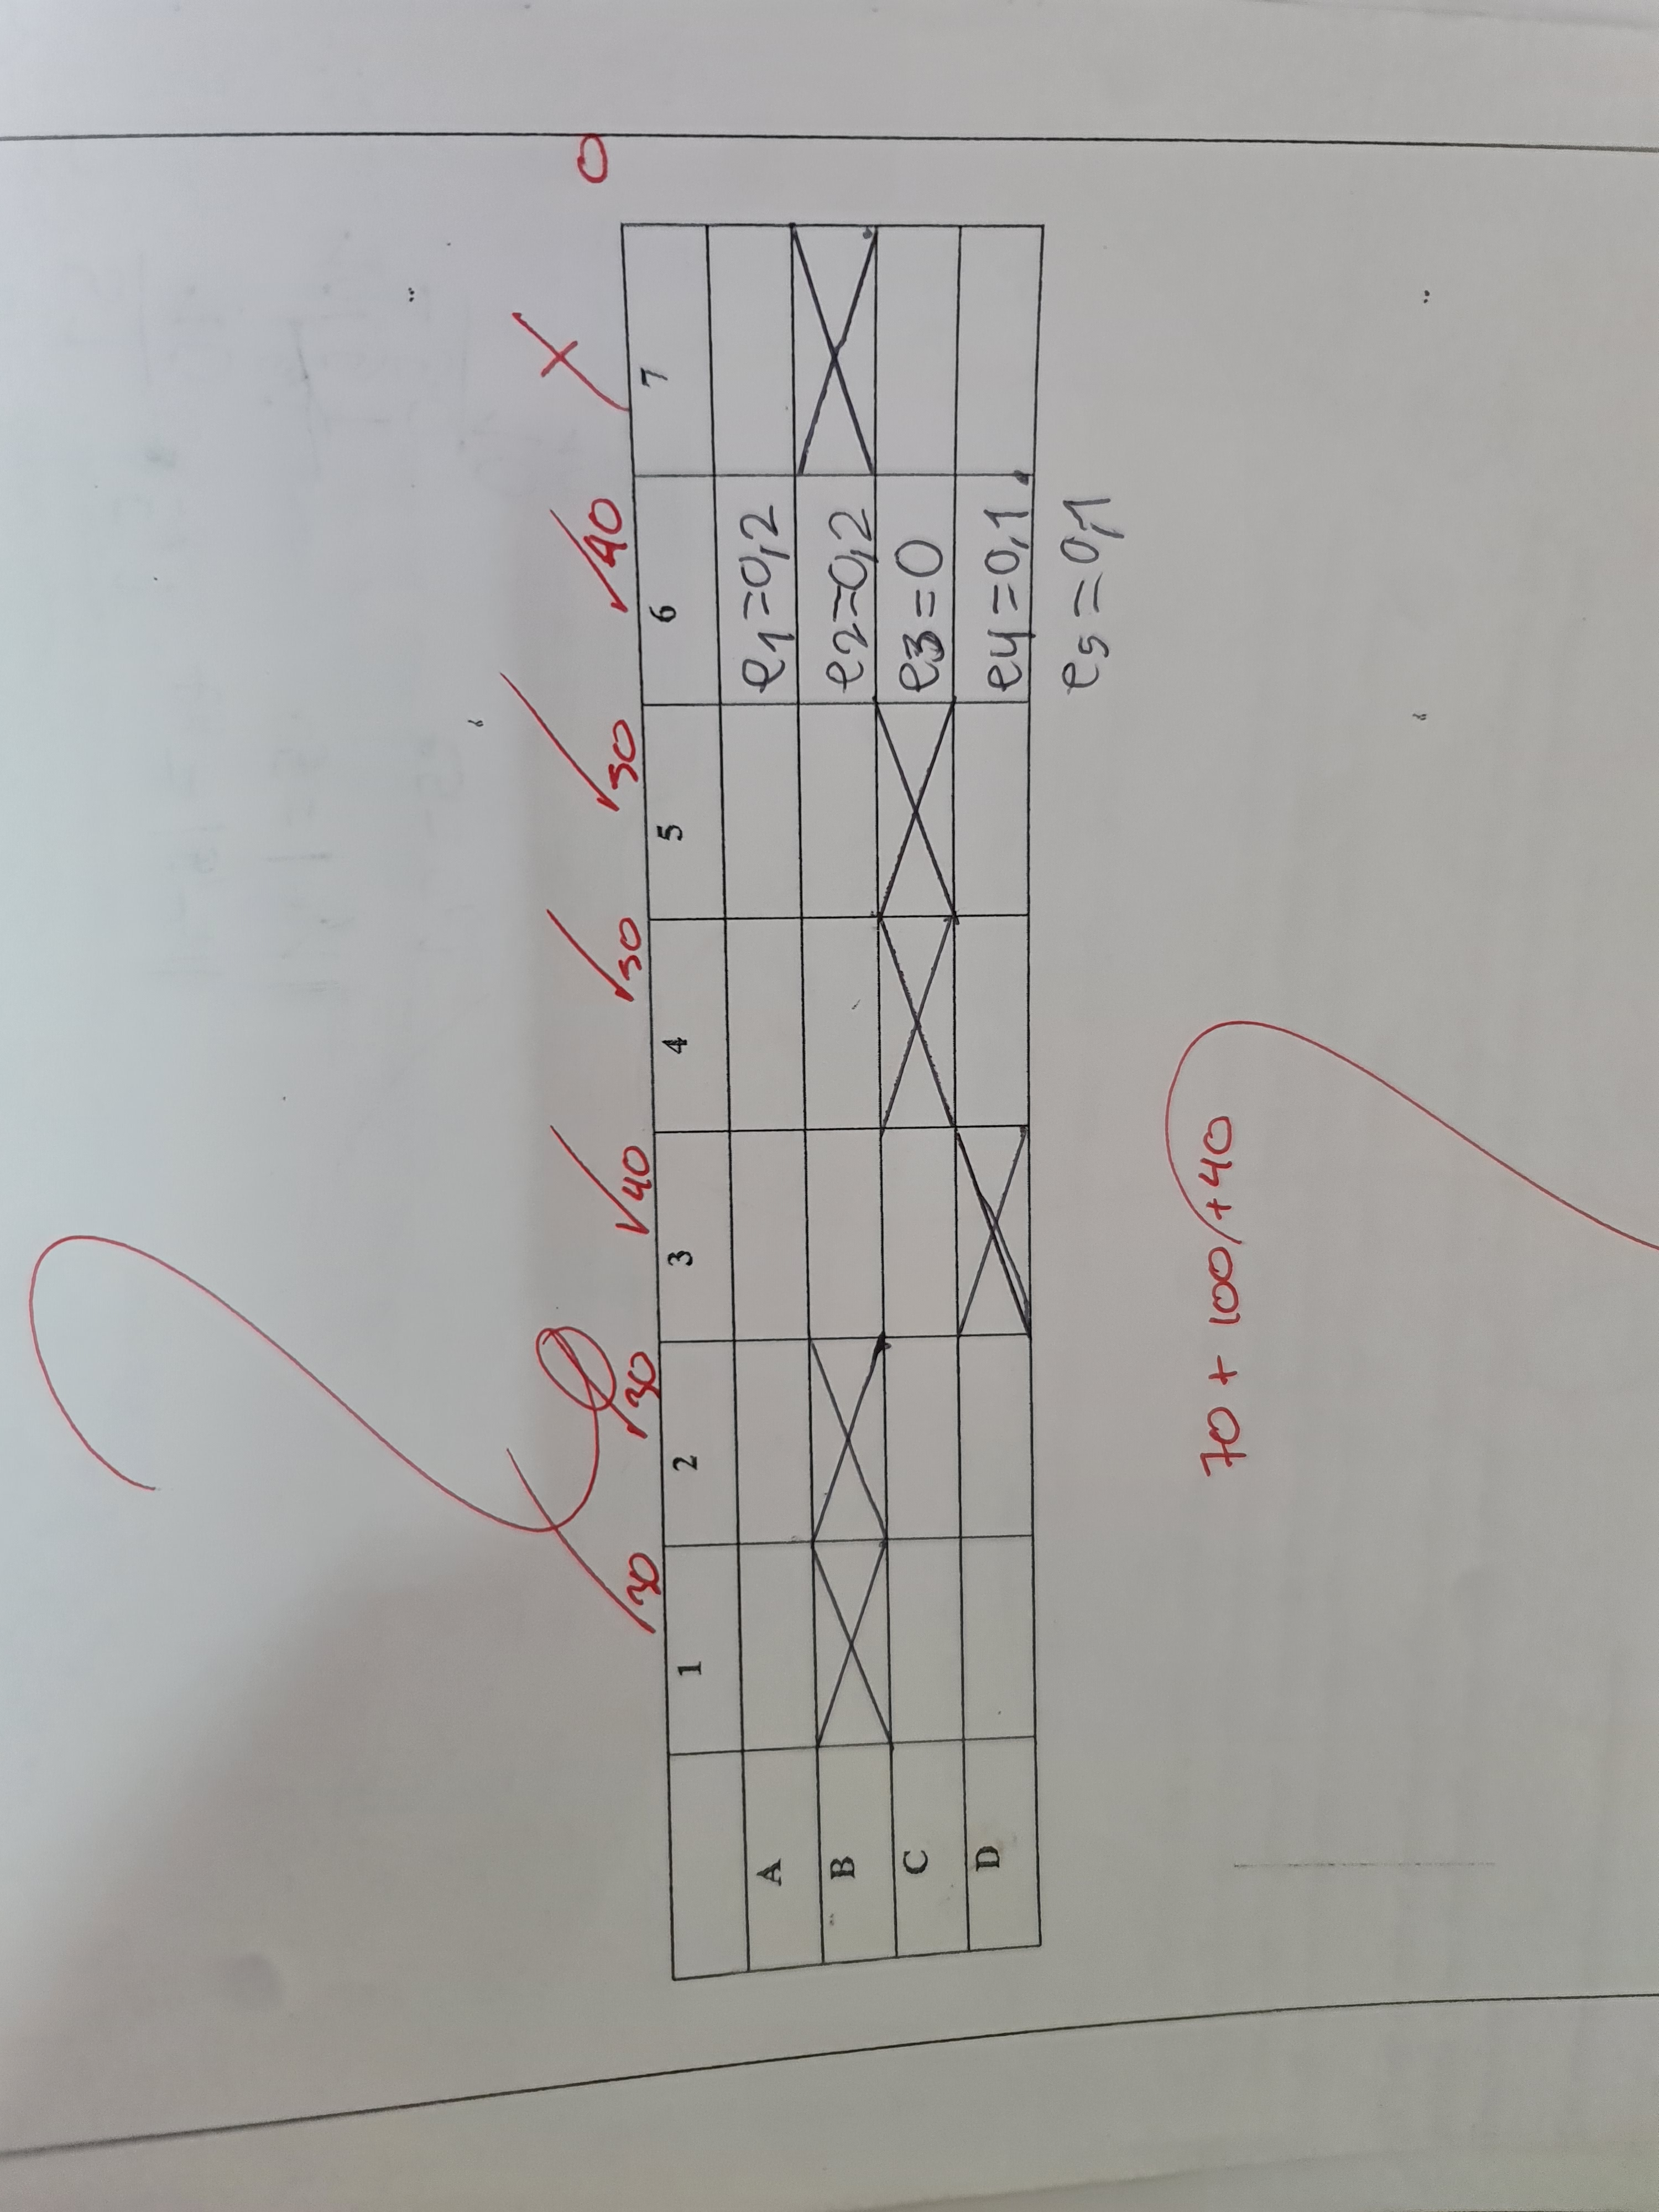column: (631, 686, 1042, 937), (660, 1726, 1056, 1986), (650, 1515, 1054, 1766), (641, 907, 1054, 1150), (650, 1106, 1042, 1350), (647, 1318, 1037, 1554)
